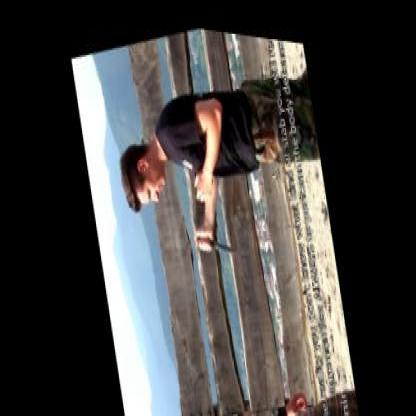knife: (188, 206, 236, 262)
